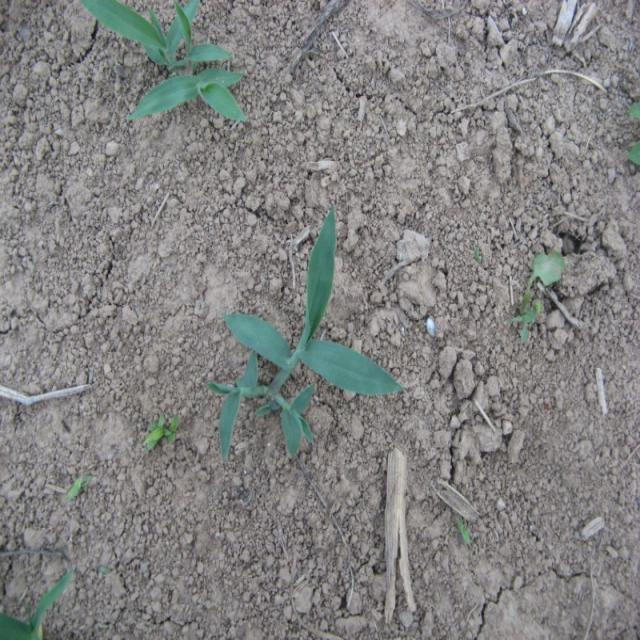bg: (211, 203, 406, 468)
